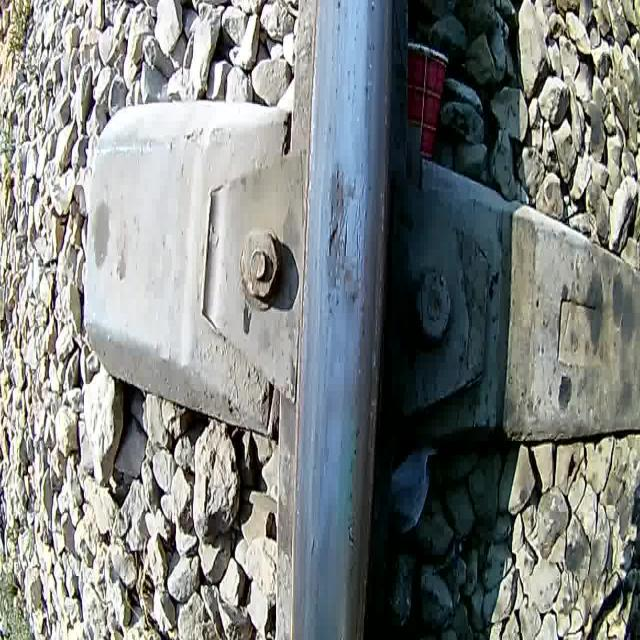Squats: (338, 244, 388, 640), (321, 157, 369, 316)
